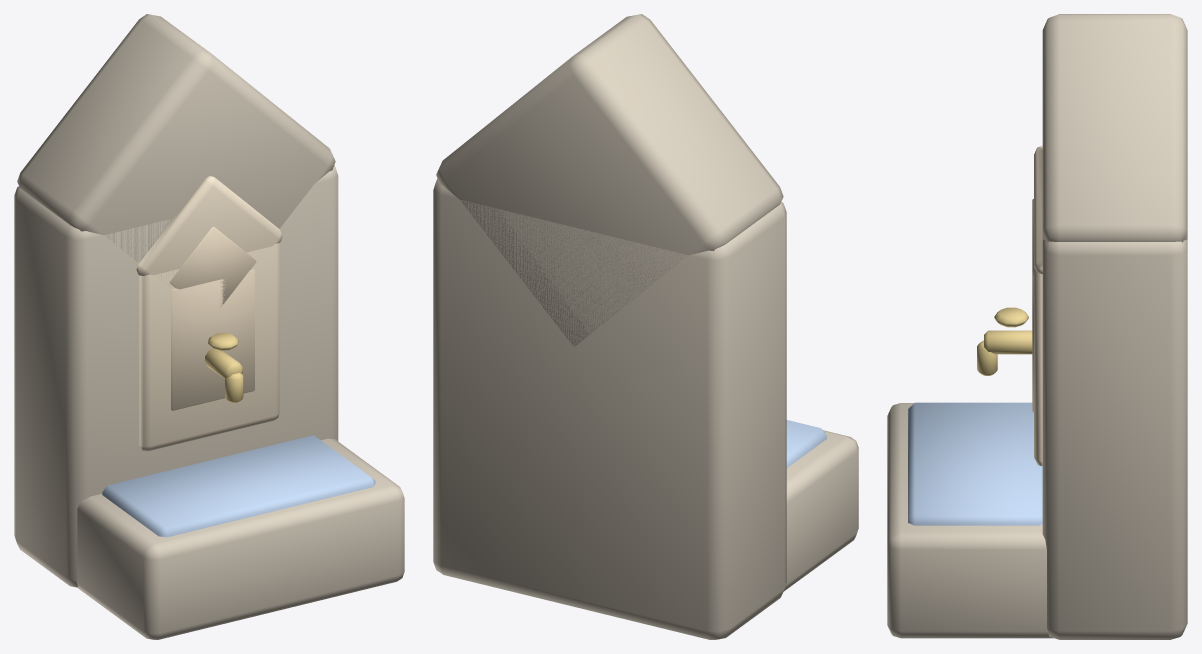
File: fountain.glb
3 views of the same model, side by side, from view 1: azimuth 30°, elevation 25°; view 2: azimuth 150°, elevation 25°; view 3: azimuth 270°, elevation 25° (orthographic). The views are drawn at different scales.
Parts seen in each view (by area): view 1: fountain; view 2: fountain; view 3: fountain.
Boxes of the visible parts, x1=… form: fountain: x1=14, y1=14, x2=404, y2=639; fountain: x1=433, y1=14, x2=858, y2=639; fountain: x1=887, y1=14, x2=1187, y2=639.
Size of the model in its own units: 1 by 1.79 by 0.87.
